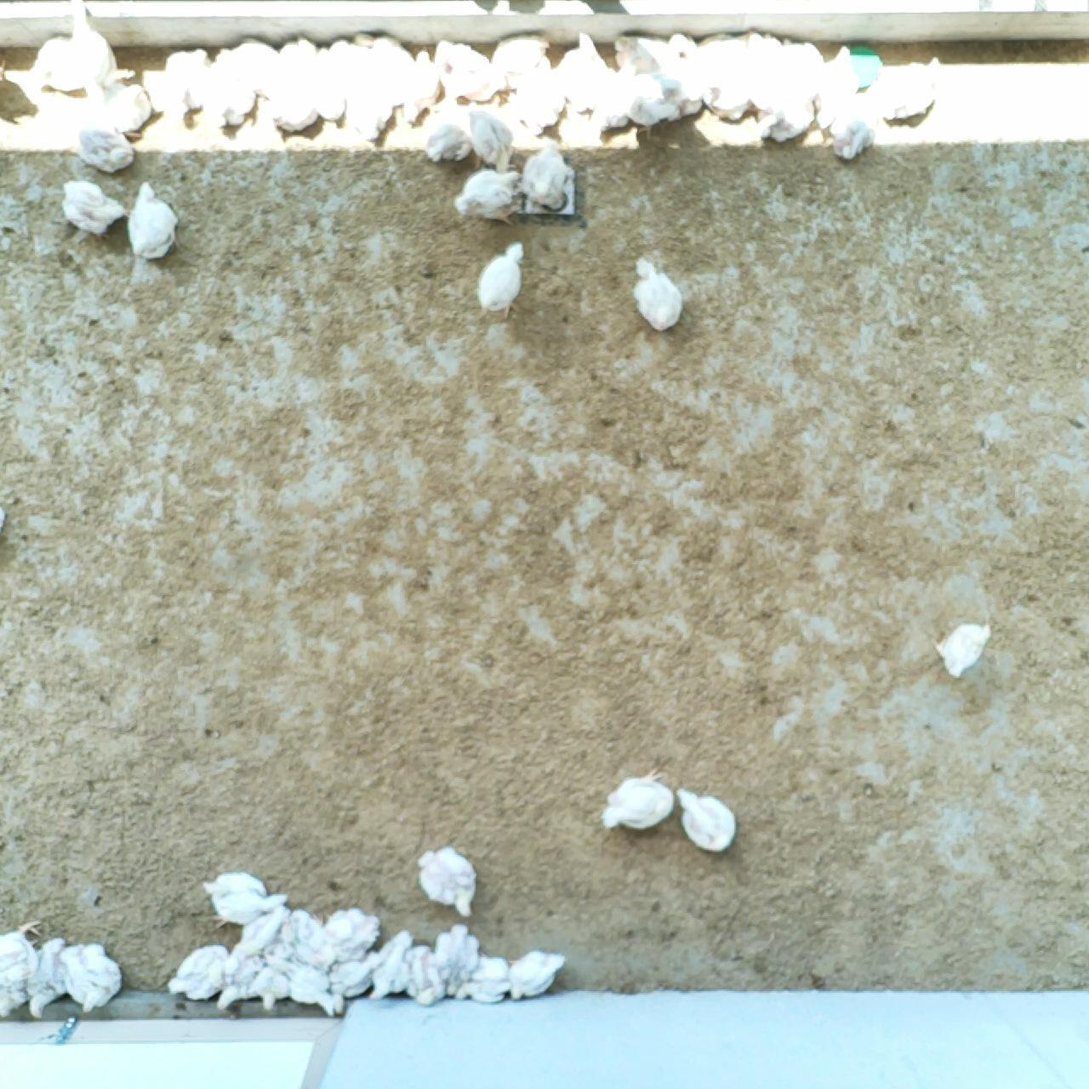chicken: (202, 868, 284, 929), (31, 20, 110, 82), (699, 29, 750, 122), (555, 34, 613, 110), (385, 37, 437, 117), (632, 258, 686, 335), (600, 776, 674, 831), (65, 939, 120, 1012), (211, 950, 281, 1006), (620, 58, 670, 134), (225, 900, 288, 960), (351, 43, 391, 136), (437, 36, 494, 100), (661, 26, 707, 105), (881, 56, 941, 116), (422, 847, 478, 911), (281, 957, 343, 1014), (285, 42, 322, 136), (750, 92, 816, 144), (1, 932, 41, 1016), (736, 23, 779, 100), (237, 36, 291, 97), (130, 185, 175, 257), (60, 177, 120, 231), (29, 940, 76, 1008), (455, 167, 516, 219), (681, 790, 737, 846), (938, 620, 995, 675), (518, 150, 572, 208), (321, 911, 391, 955), (817, 40, 856, 118), (92, 81, 150, 132), (165, 51, 205, 124), (374, 931, 415, 1002), (476, 245, 520, 311), (208, 58, 252, 123), (172, 944, 224, 998), (512, 950, 569, 999), (287, 906, 329, 971), (439, 927, 483, 988), (778, 36, 821, 97), (76, 123, 133, 169), (510, 71, 556, 128), (469, 113, 515, 168), (405, 945, 447, 1001), (620, 34, 669, 82), (831, 105, 871, 162), (332, 949, 378, 996), (499, 31, 544, 78), (322, 45, 351, 117), (469, 954, 511, 1001), (590, 74, 624, 131), (432, 128, 467, 161)
